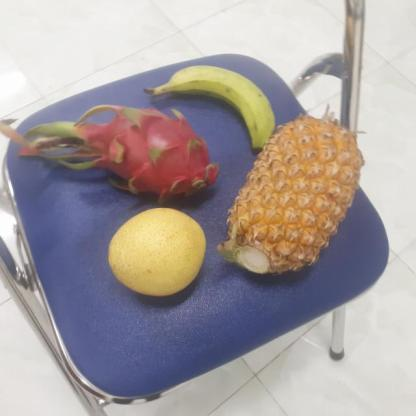banana: (163, 66, 277, 152)
pear: (105, 208, 210, 298)
pineapple: (223, 120, 365, 276)
pitaya: (81, 107, 222, 206)
